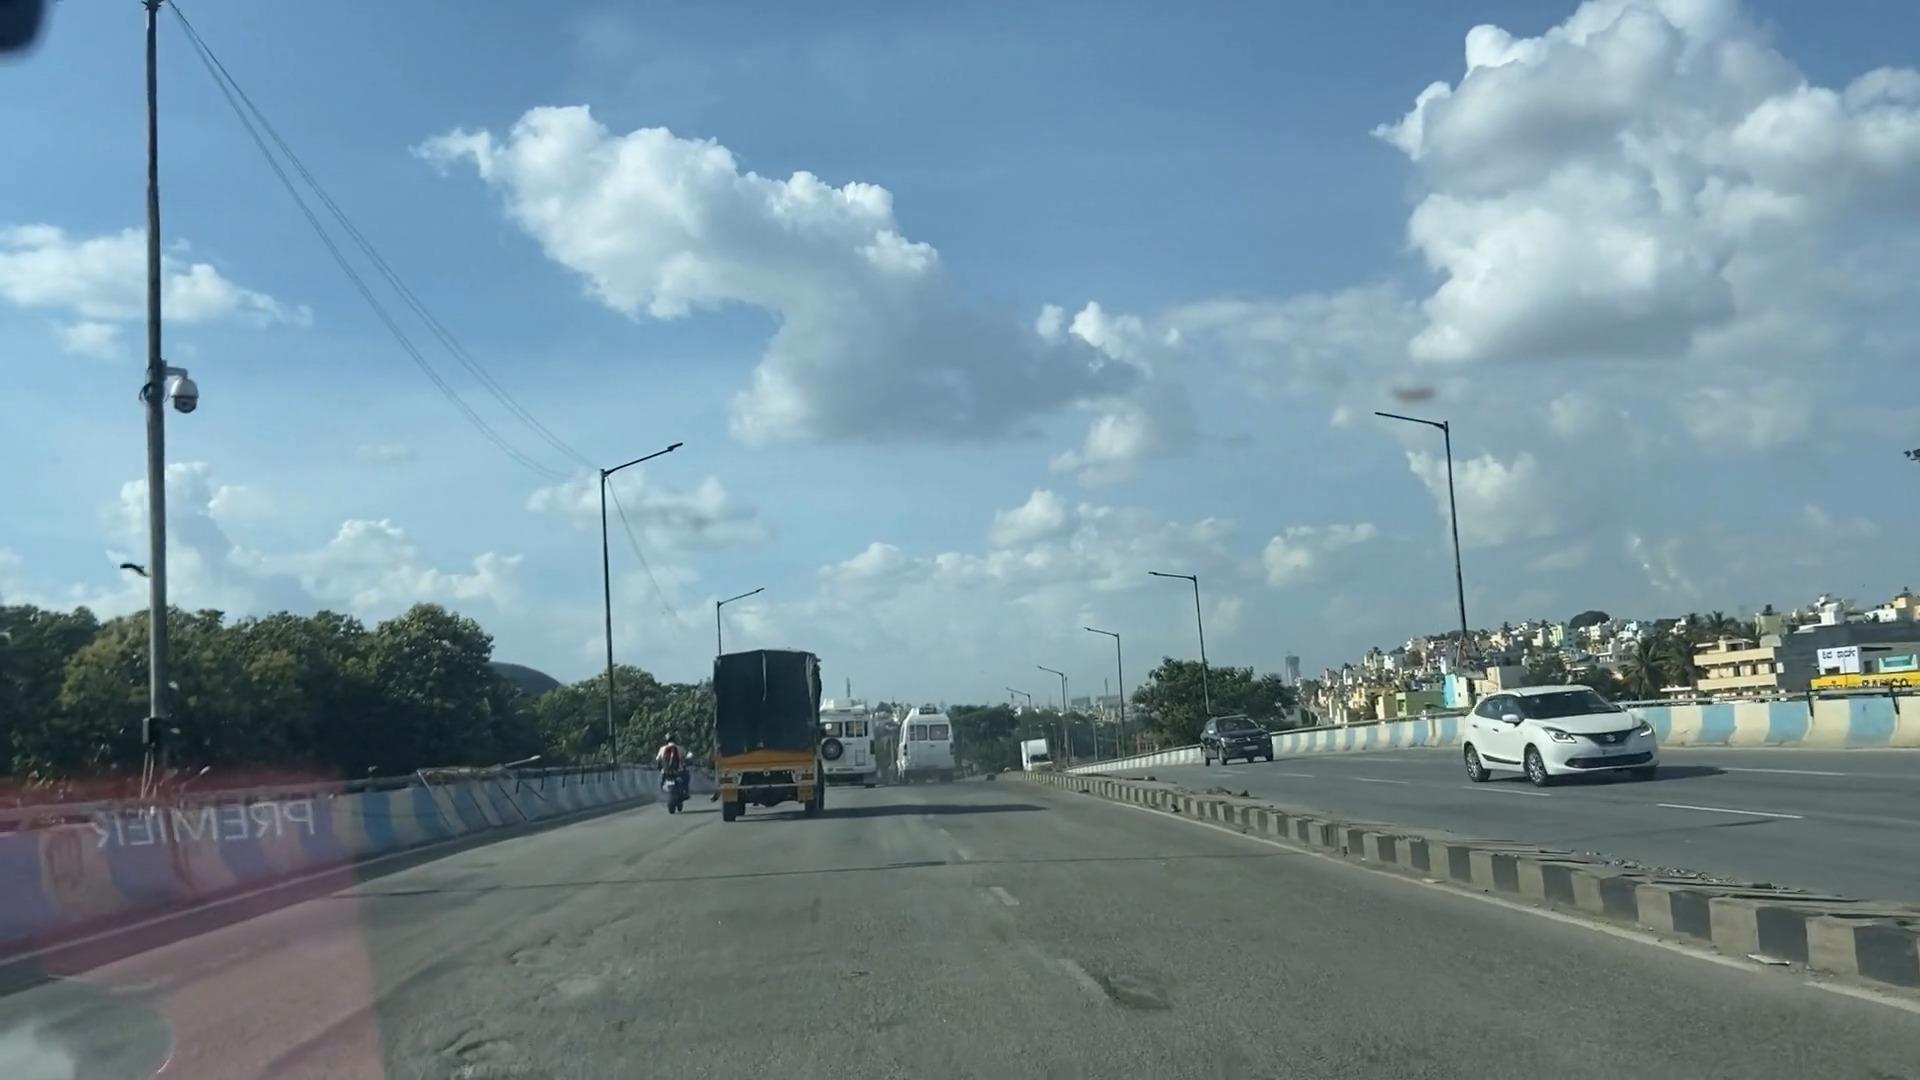HMV: (711, 642, 837, 832)
LMV: (642, 727, 699, 832)
RoadDamages: (364, 893, 675, 1073)
